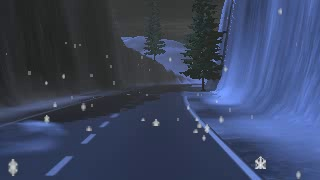Lane: (0, 84, 255, 179)
